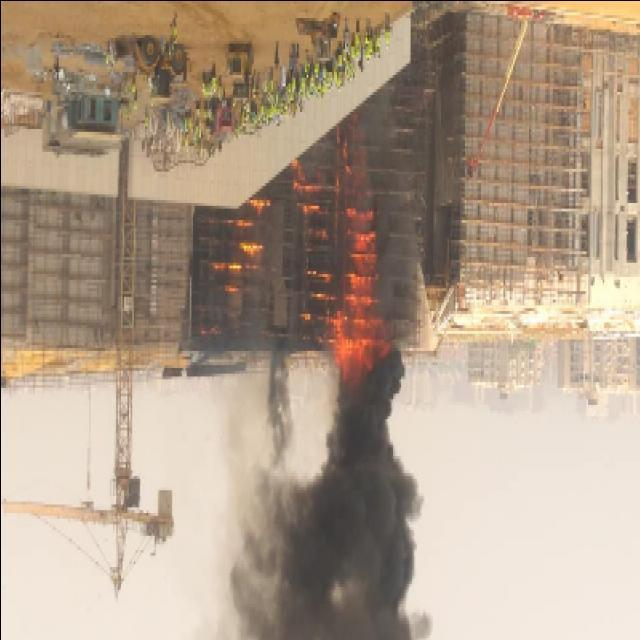Fire: (293, 140, 384, 383), (205, 200, 269, 296)
